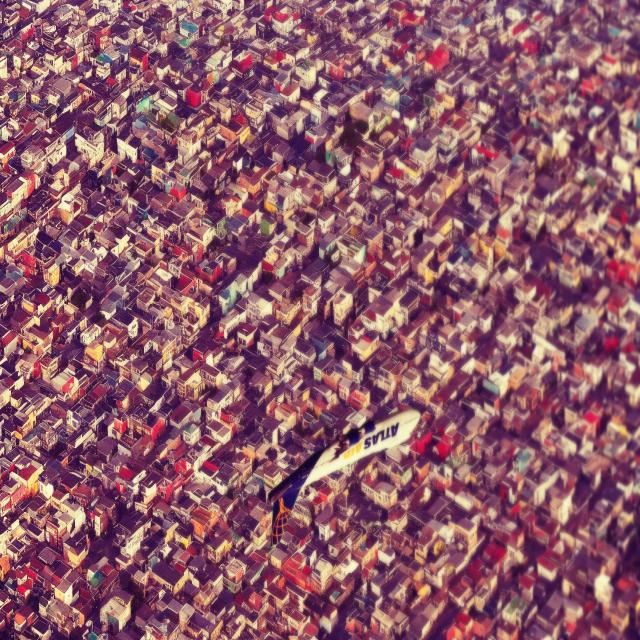airplane: (267, 409, 422, 546)
